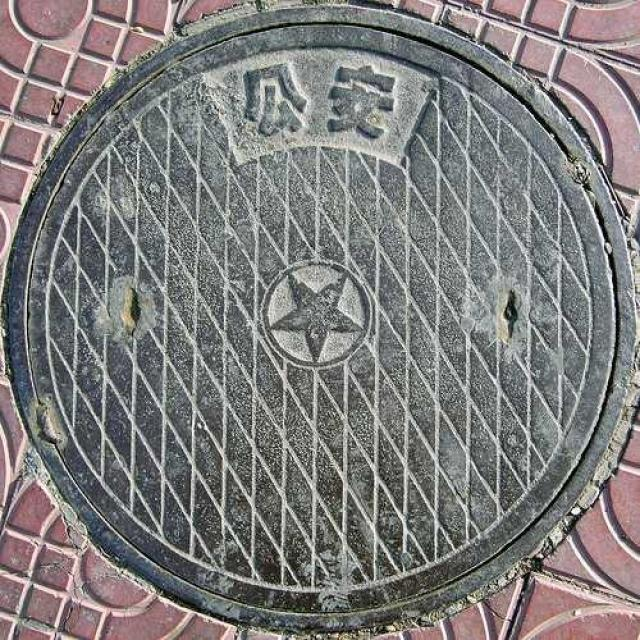manhole: (5, 6, 633, 629)
